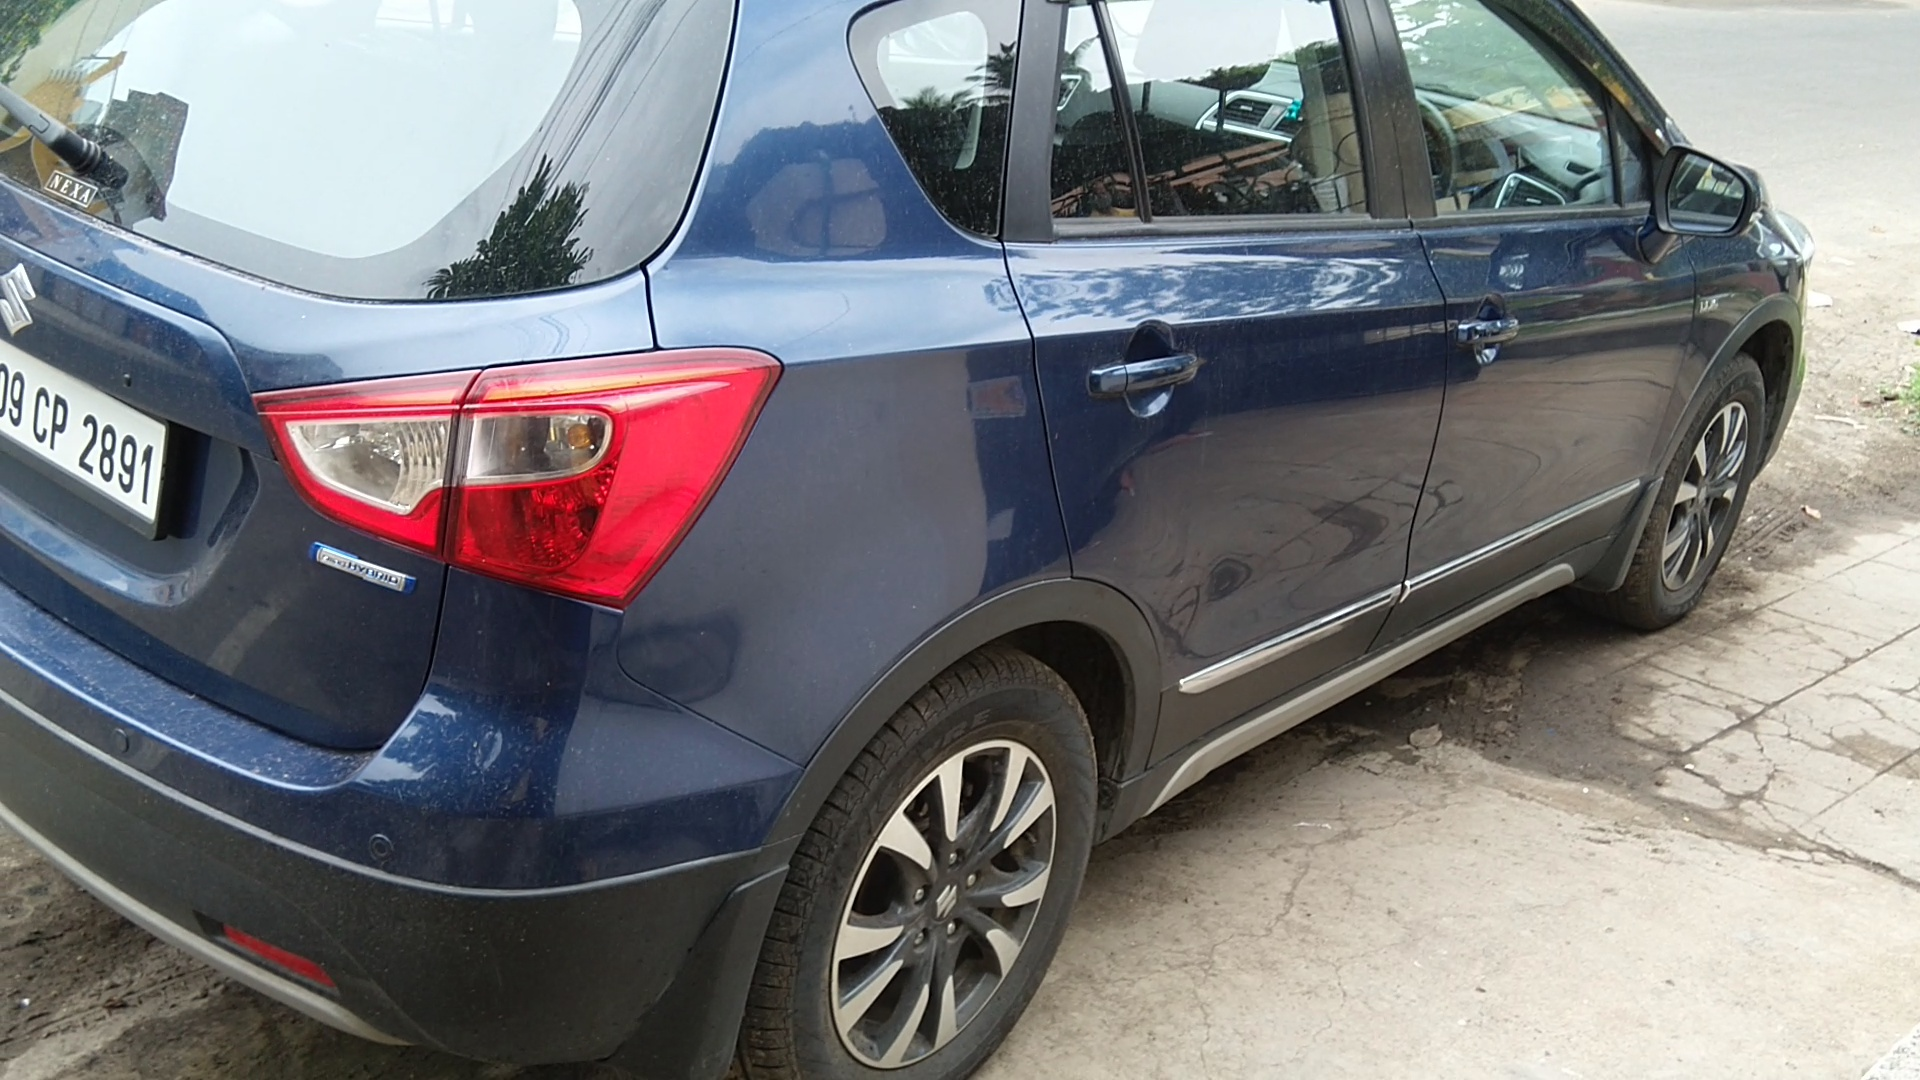alloy_wheel: (760, 655, 1106, 1080), (1609, 352, 1796, 630)
shvs: (294, 527, 419, 615)
